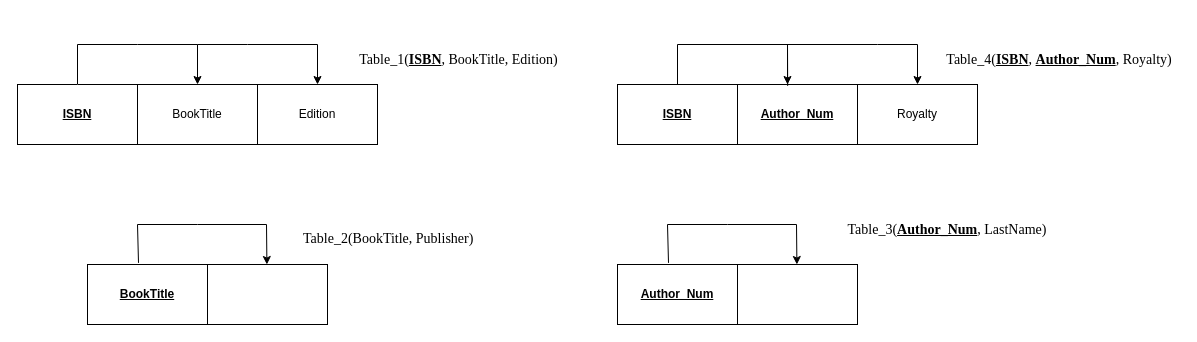
Image size: 1197x342. Some labels were removed from this diagram. Each missing label, with the box of its shape:
LastName: (736, 264, 858, 324)
Publisher: (206, 264, 328, 324)
